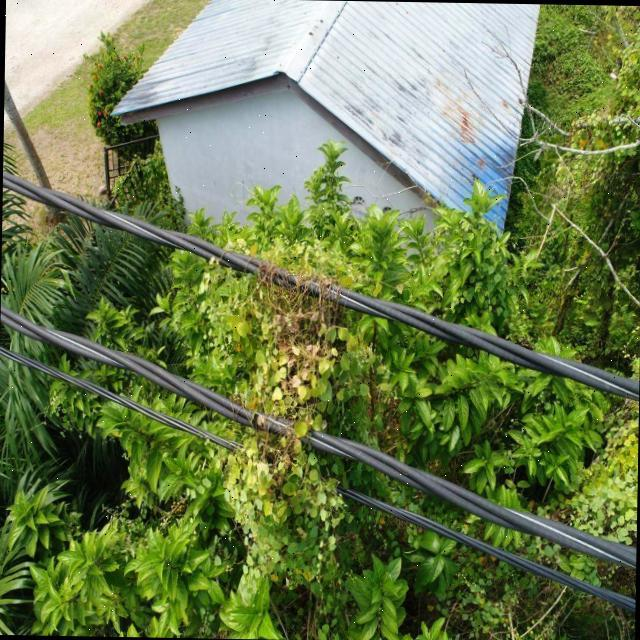critical vegetation: (212, 243, 357, 574)
